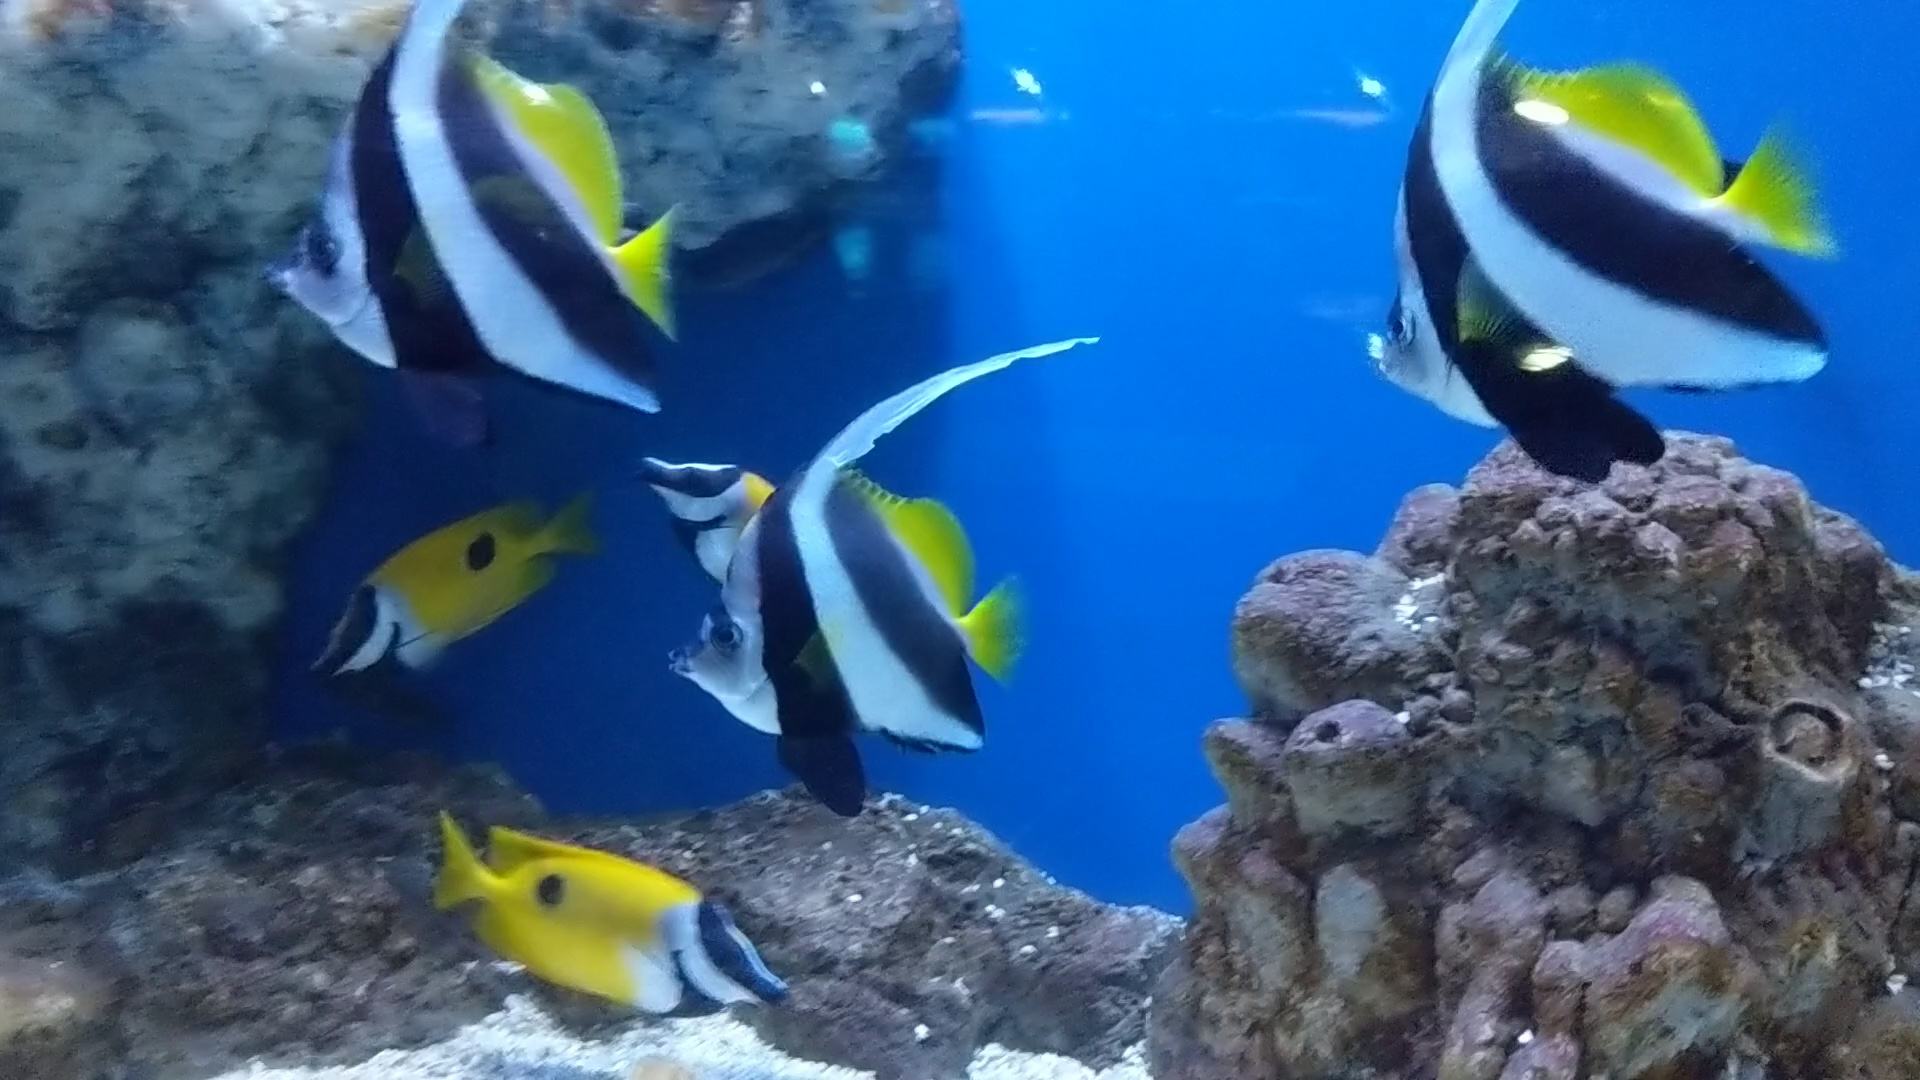moorfish: (618, 332, 1125, 789), (1358, 11, 1845, 472), (266, 22, 688, 444)
rabbitfish: (425, 789, 796, 1036), (270, 510, 591, 673)
